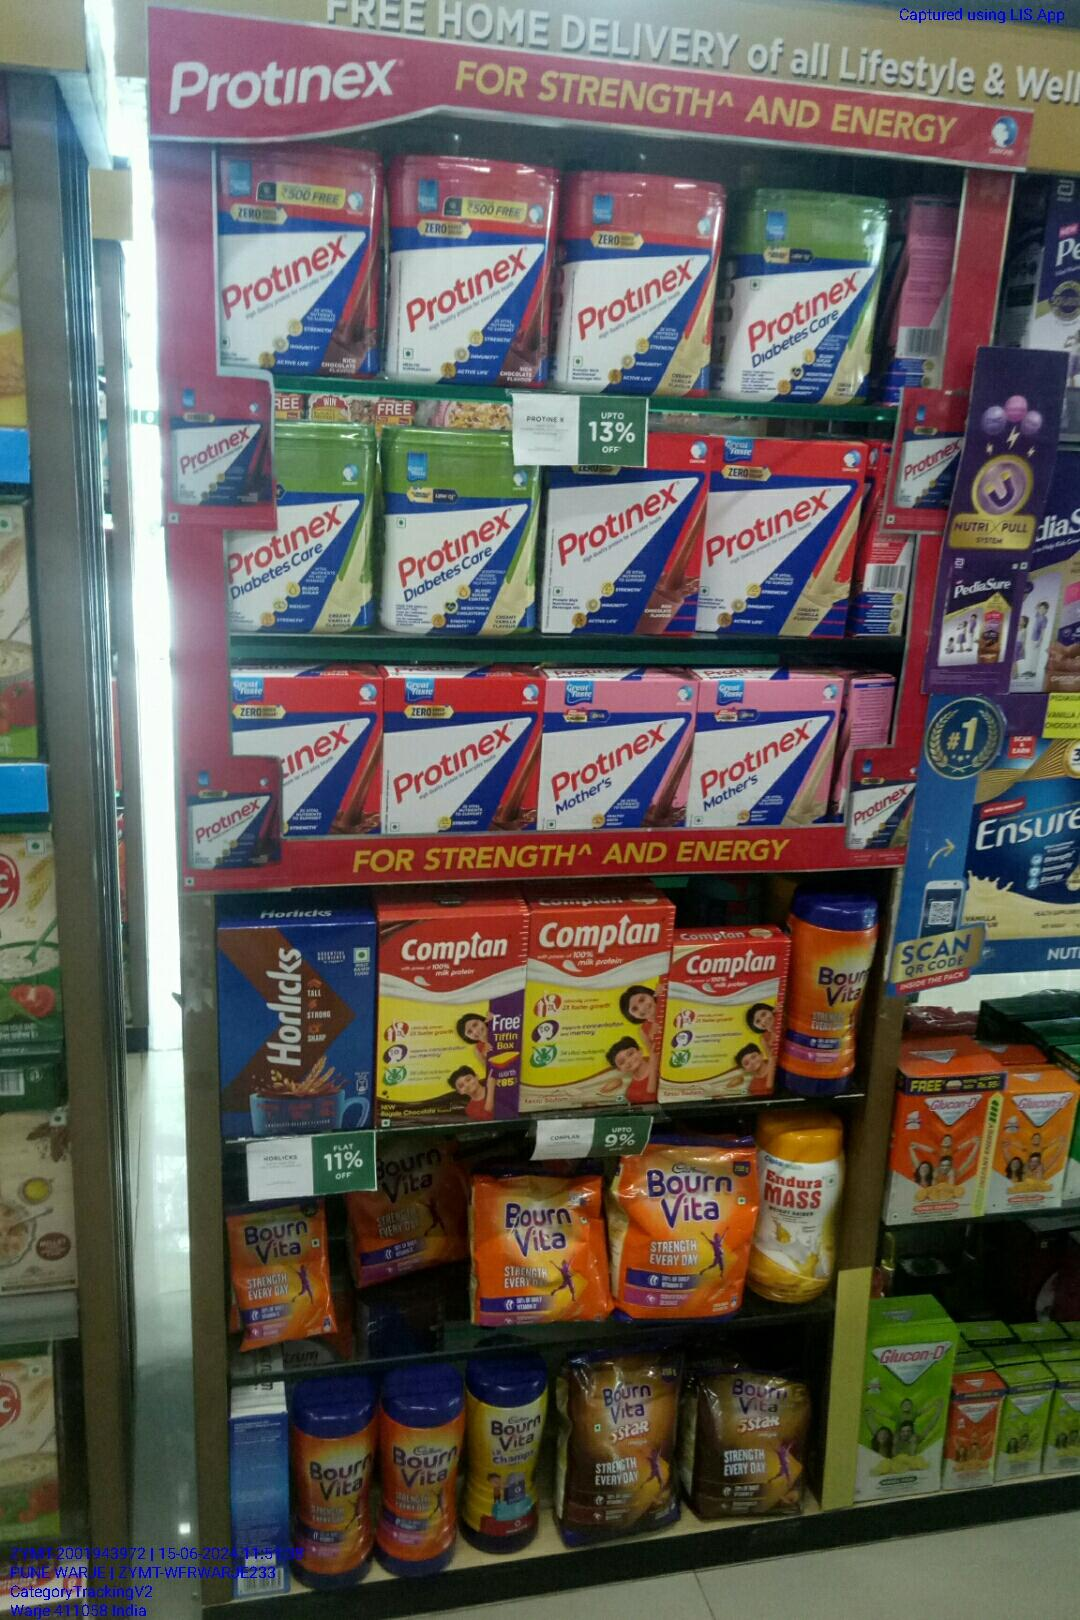BOURN_VITA_1_KG_JAR: (388, 429, 530, 636), (277, 429, 371, 617)
BOURN_VITA_500_G_JAR: (293, 1390, 374, 1589), (381, 1377, 459, 1580), (788, 899, 865, 1100)
BOURN_VITA_500_G_POUCH: (472, 1173, 606, 1326)
BOURN_VITA_750_G_POUCH: (615, 1145, 749, 1322)
BOURN_VITA_75_G_POUCH: (233, 1201, 336, 1340)
BOURN_VITA_CHAMPS_500_G_JAR: (466, 1367, 544, 1555)
BOURN_VITA_FIVE_STAR_MAGIC_500_G_POUCH: (692, 1372, 804, 1514)
BOURN_VITA_FIVE_STAR_MAGIC_750_G_POUCH: (565, 1354, 681, 1542)
COMPLAN_CHOCOLATE_500_GMS_PACK: (376, 922, 518, 1127)
COMPLAN_KESAR_BADAM_200_GMS_PACK: (664, 946, 776, 1097)
COMPLAN_KESAR_BADAM_500_GMS_PACK: (526, 915, 658, 1114)
HORLICK_CHOCOLATE_500_G_PACK: (217, 926, 370, 1129)
PROTINEX_CHOCOLATE_400_G_JAR: (216, 148, 377, 383), (391, 154, 547, 380)
PROTINEX_VANILLA_400_G_JAR: (562, 170, 714, 393)
